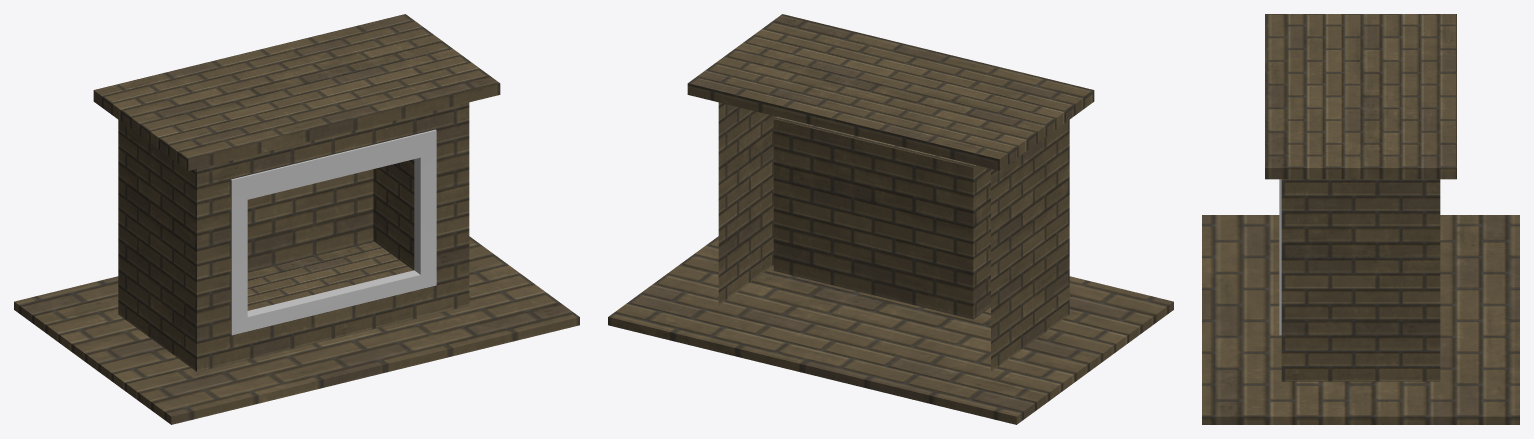
Rendered from fireplace1.fbx.
3 views of the same model, side by side, from view 1: azimuth 30°, elevation 25°; view 2: azimuth 150°, elevation 25°; view 3: azimuth 270°, elevation 25° (orthographic).
Parts seen in each view (by area): view 1: polySurface987; view 2: polySurface987; view 3: polySurface987.
Boxes of the visible parts, left/top/right/bottom form: polySurface987: left=14, top=14, right=579, bottom=424; polySurface987: left=608, top=14, right=1173, bottom=424; polySurface987: left=1202, top=14, right=1519, bottom=424.
Size of the model in its own units: 300 by 162 by 200.
